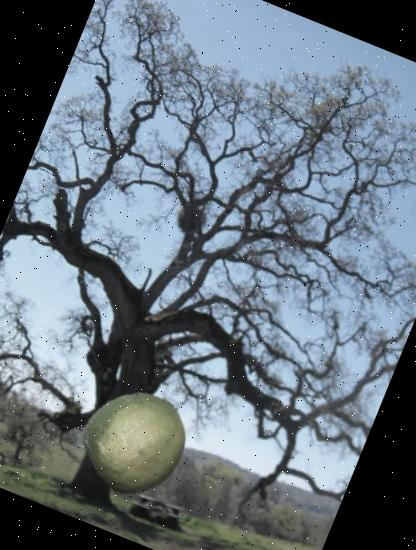Limes: (67, 373, 202, 508)
